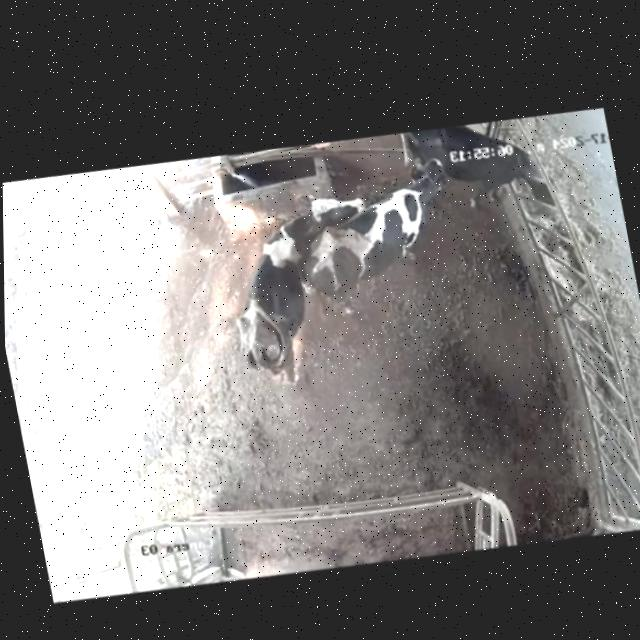eat: (484, 123, 582, 224)
propping: (277, 179, 387, 273)
stand: (289, 146, 471, 328)
